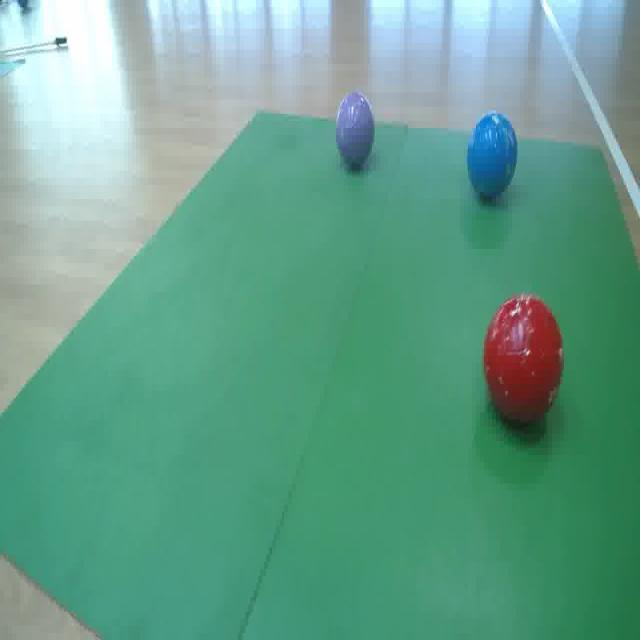blue_ball: (469, 113, 517, 202)
purple_ball: (334, 97, 378, 171)
red_ball: (485, 291, 559, 440)
